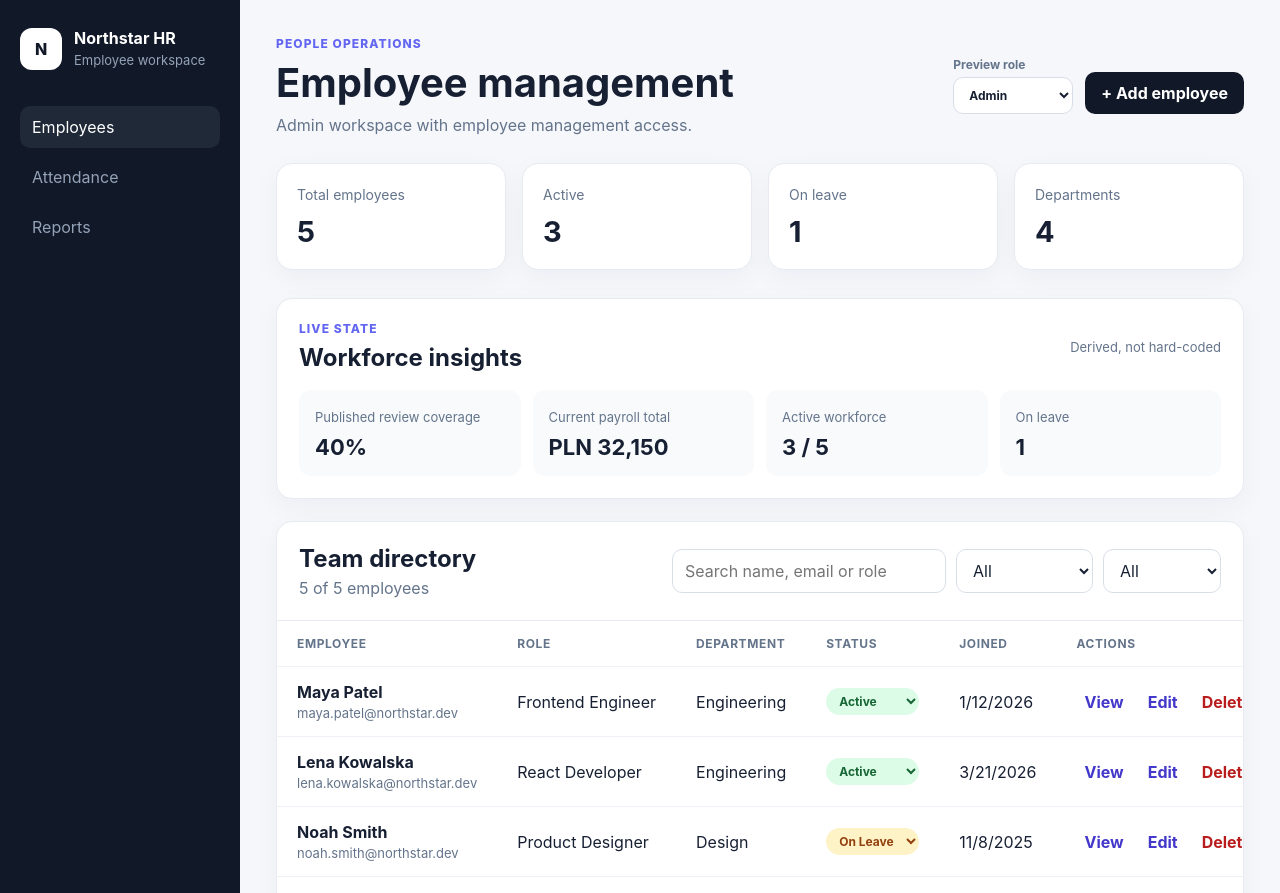
Scenario: switches to a read-only employee view
expect the heading "Employee management" is shown: met, box 276,58 -> 734,107
Select "Employee" in the dropdown labelled "Preview role" at (1013, 96), box 953,77 -> 1073,114
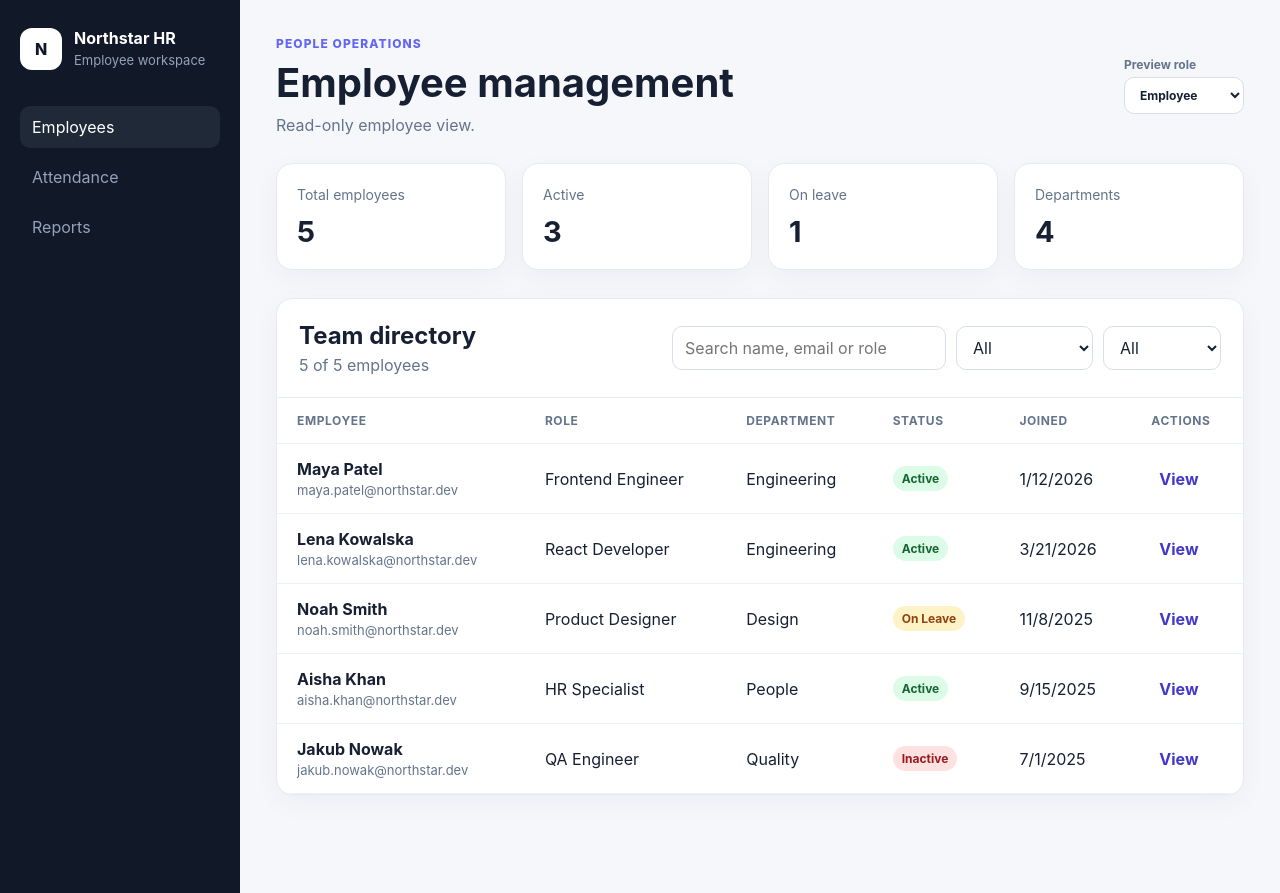
expect the button with aria-label "View Maya Patel" is shown: met, box 1151,462 -> 1206,494
expect the text "Read-only employee view." is shown: met, box 276,115 -> 475,135
expect the button "Add employee" is gone: met
